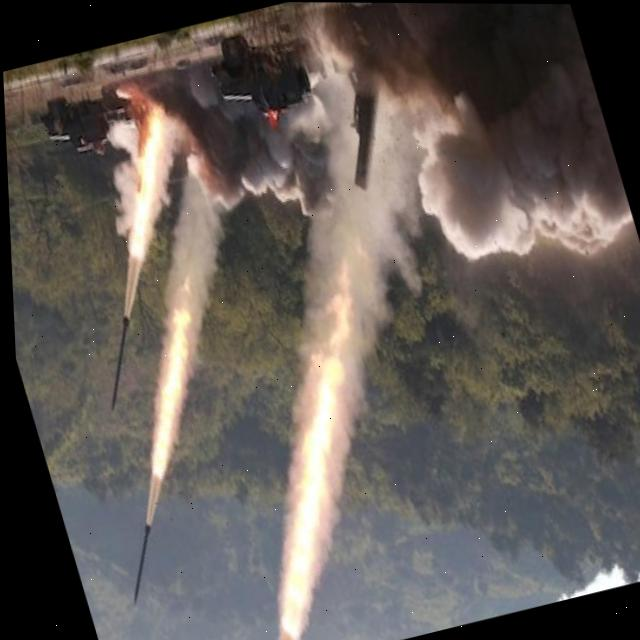missile: (76, 310, 151, 414), (98, 513, 173, 610)
